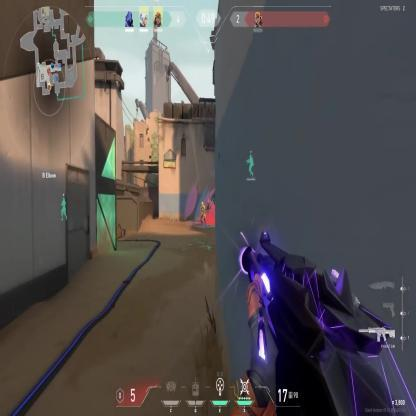enemy: (199, 201, 206, 227)
enemy_head: (201, 202, 204, 206)
